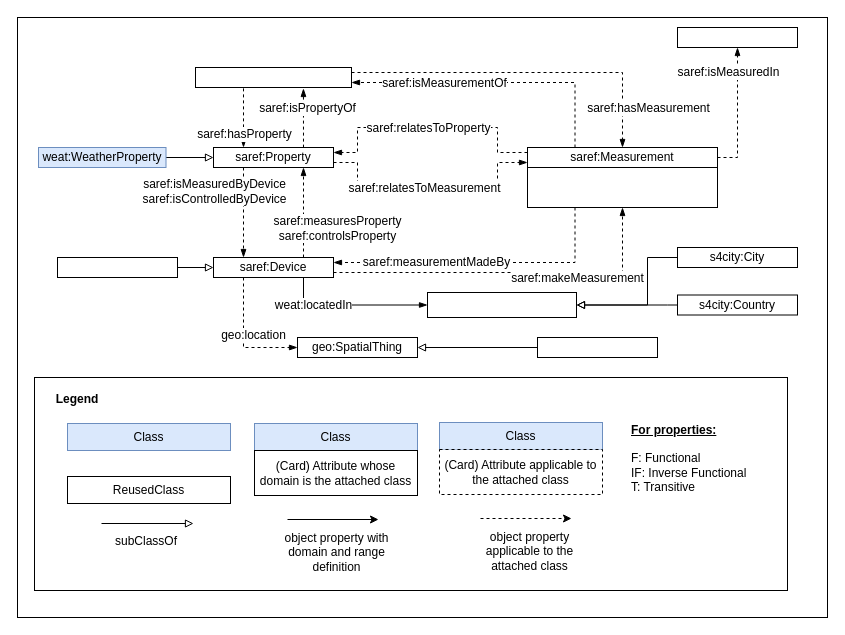
The diagram is 845 pixels wide and 635 high, and some of its shapes have lost their labels. The shapes that lost their labels are listed below. From the top down, each one's box as (x1, y1, x2, y2) in pixels, then its label:
(676, 26, 798, 48): saref:UnitOfMeasure
(194, 66, 352, 88): saref:FeatureOfInterest
(526, 166, 718, 208): saref:hasTimeStamp::xsd:dateTime saref:hasValue::
(56, 256, 178, 278): saref:Sensor
(426, 292, 576, 318): s4city:AdministrativeArea
(536, 336, 658, 358): geo:Point
